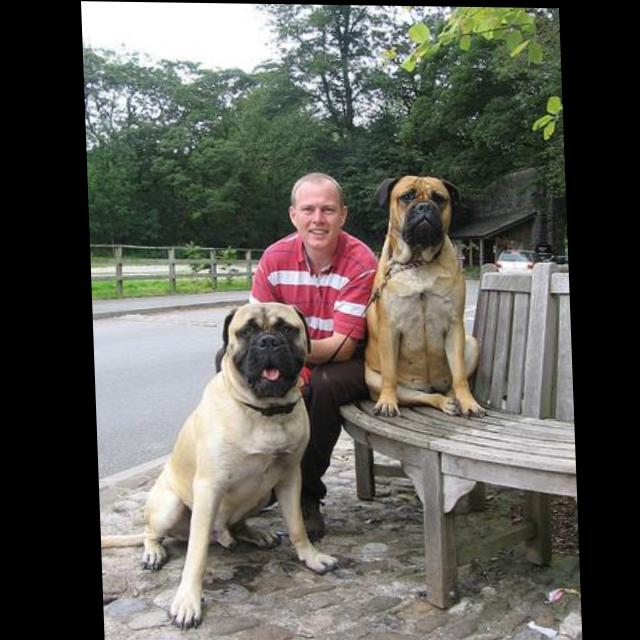bullmastiff: (90, 298, 337, 632), (355, 173, 485, 418)
face: (295, 179, 342, 248)
person: (242, 169, 386, 540)
